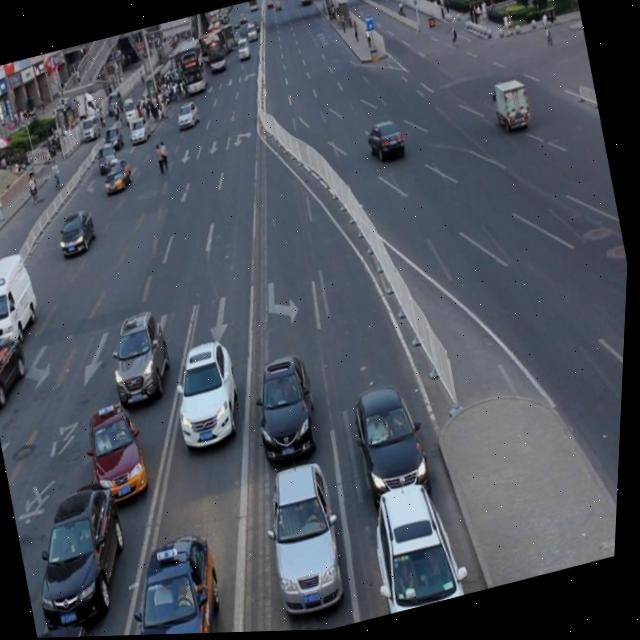bus: (488, 77, 533, 138)
car: (23, 475, 148, 634), (256, 461, 362, 628), (364, 479, 475, 618), (115, 530, 241, 637), (348, 381, 441, 516), (166, 334, 253, 453), (246, 355, 331, 472), (102, 309, 184, 415), (83, 401, 159, 513), (0, 329, 38, 408), (55, 207, 103, 259), (363, 118, 408, 167), (100, 156, 136, 198), (42, 621, 107, 639)
truck: (0, 249, 49, 350)
